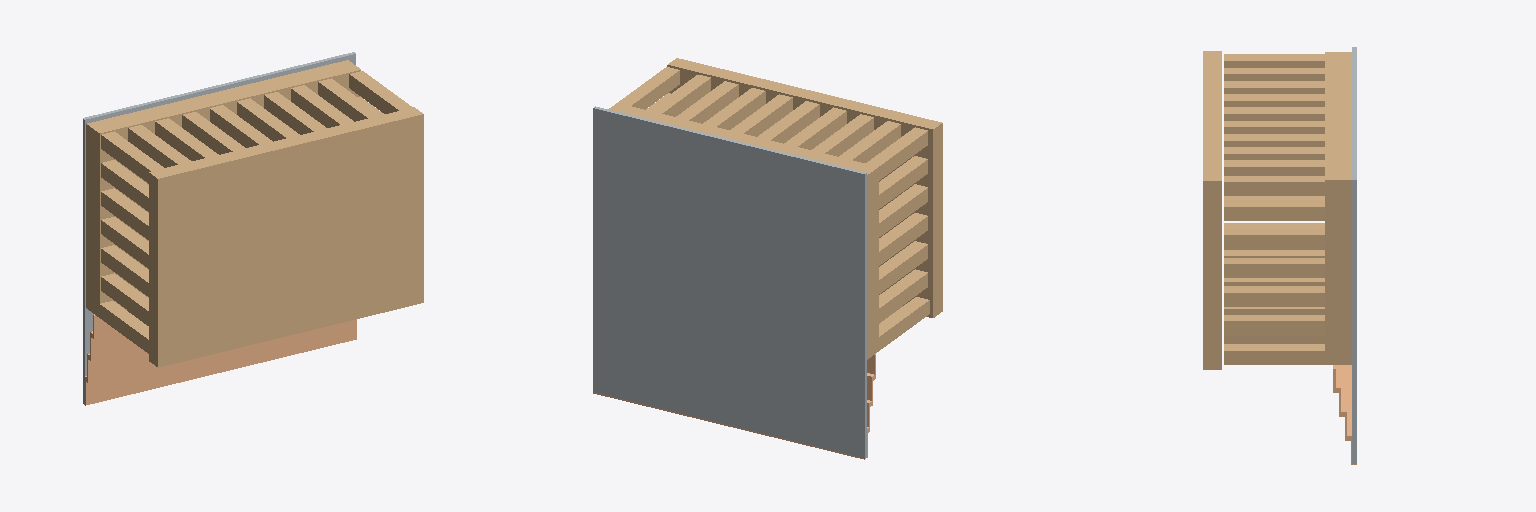
The model's file is tinker.obj.
3 renders of one model, left to right at view 1: azimuth 30°, elevation 25°; view 2: azimuth 150°, elevation 25°; view 3: azimuth 270°, elevation 25°, orthographic.
Visible parts, largest first — view 1: obj_0; view 2: obj_0; view 3: obj_0.
Part boxes in pixels (x1,y1,x2,y2): obj_0: (83,52,423,405); obj_0: (593,58,942,459); obj_0: (1203,47,1356,464).
Bounding box in the file's own units: 201 × 201 × 98.